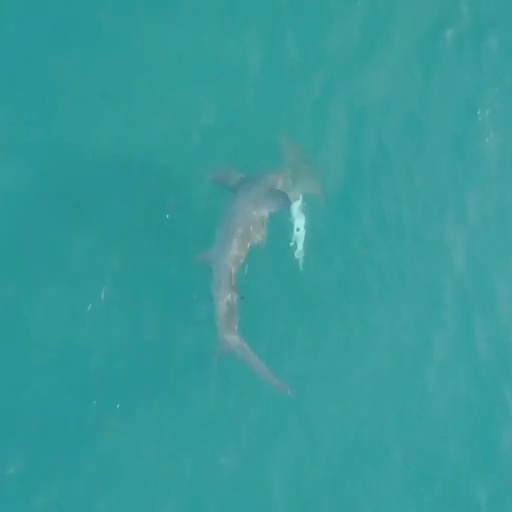shark: (196, 135, 331, 399)
